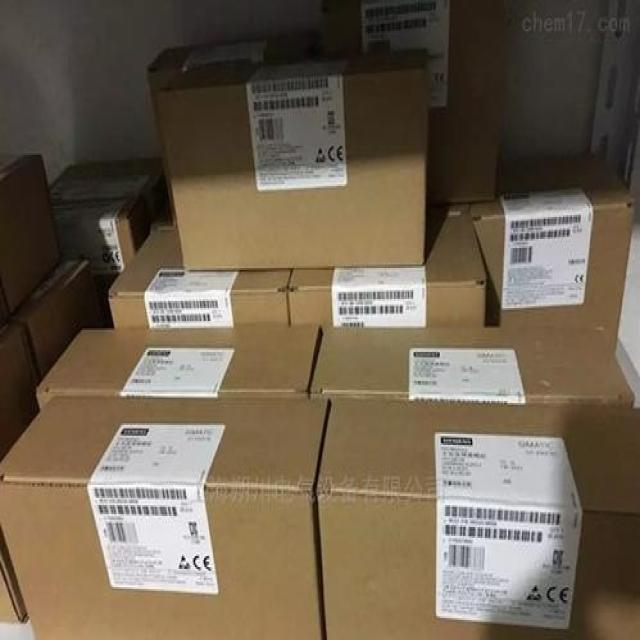box: (0, 399, 332, 637), (314, 398, 639, 638), (156, 49, 427, 269), (468, 151, 635, 355), (320, 3, 512, 161), (309, 325, 635, 406), (36, 326, 325, 408), (288, 216, 487, 326), (150, 29, 320, 149), (107, 218, 292, 325), (50, 159, 173, 298), (0, 261, 106, 384), (0, 151, 60, 325), (428, 102, 496, 208), (0, 323, 41, 463), (0, 527, 29, 627)
